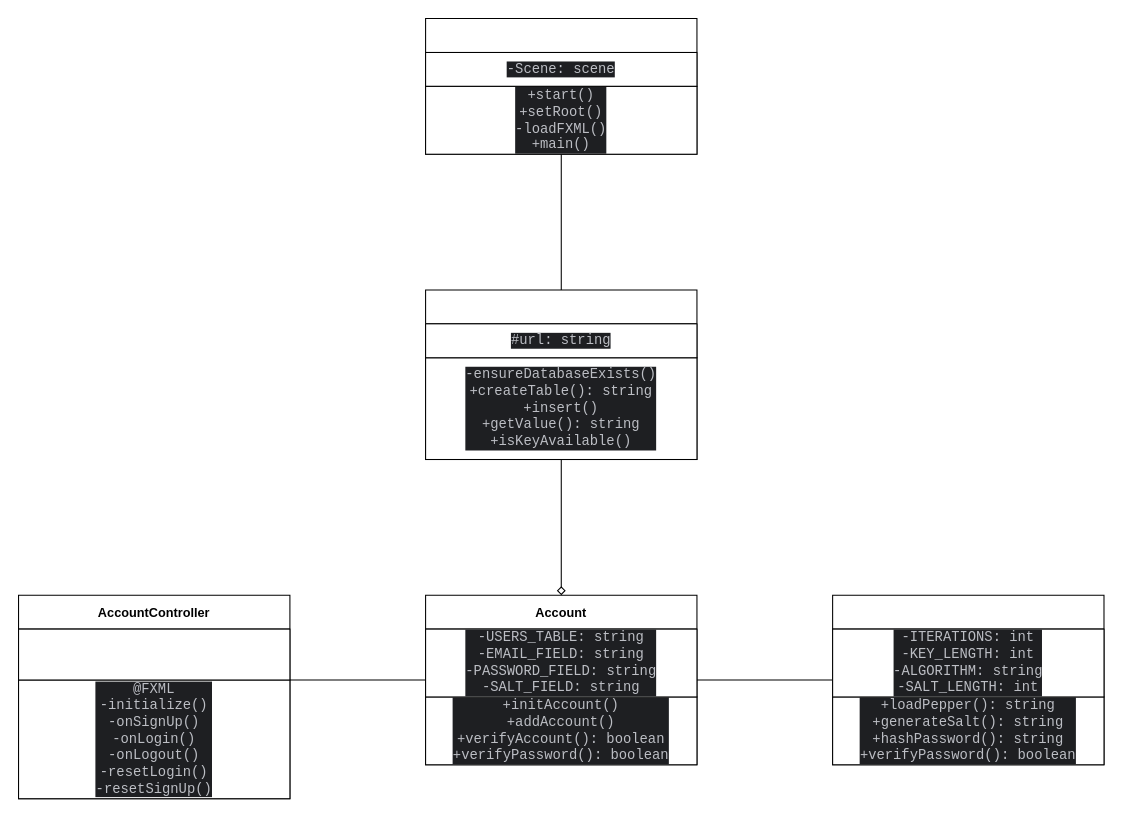
Image size: 1123x830. Some labels were removed from this diagram. The box of each missing label's shape, as (x1, y1, x2, y2) in pixels:
-Account: account @FXML: (17, 628, 290, 680)
App: (425, 17, 697, 154)
DatabaseAPI: (425, 289, 697, 460)
PasswordHasher: (832, 594, 1104, 765)
